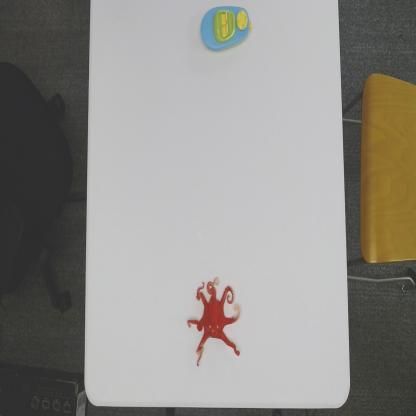Boat: (199, 4, 254, 53)
Octopus: (185, 275, 242, 367)
